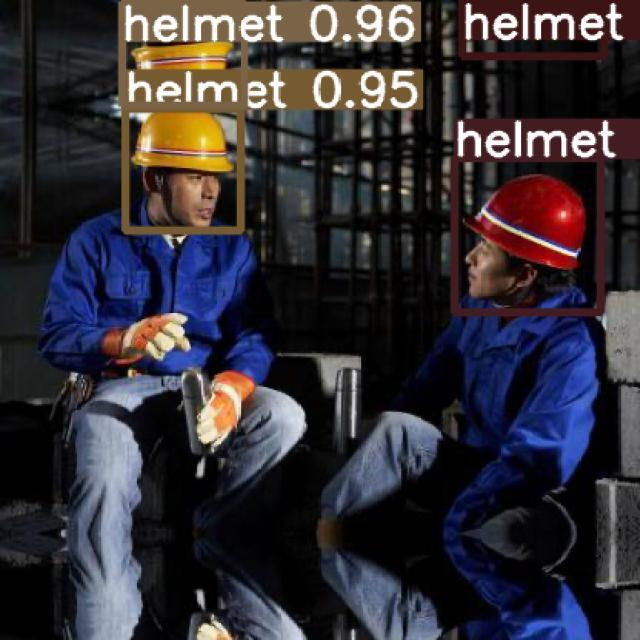red helmet: (467, 171, 585, 276)
yellow helmet: (129, 111, 235, 176), (127, 39, 242, 70)
